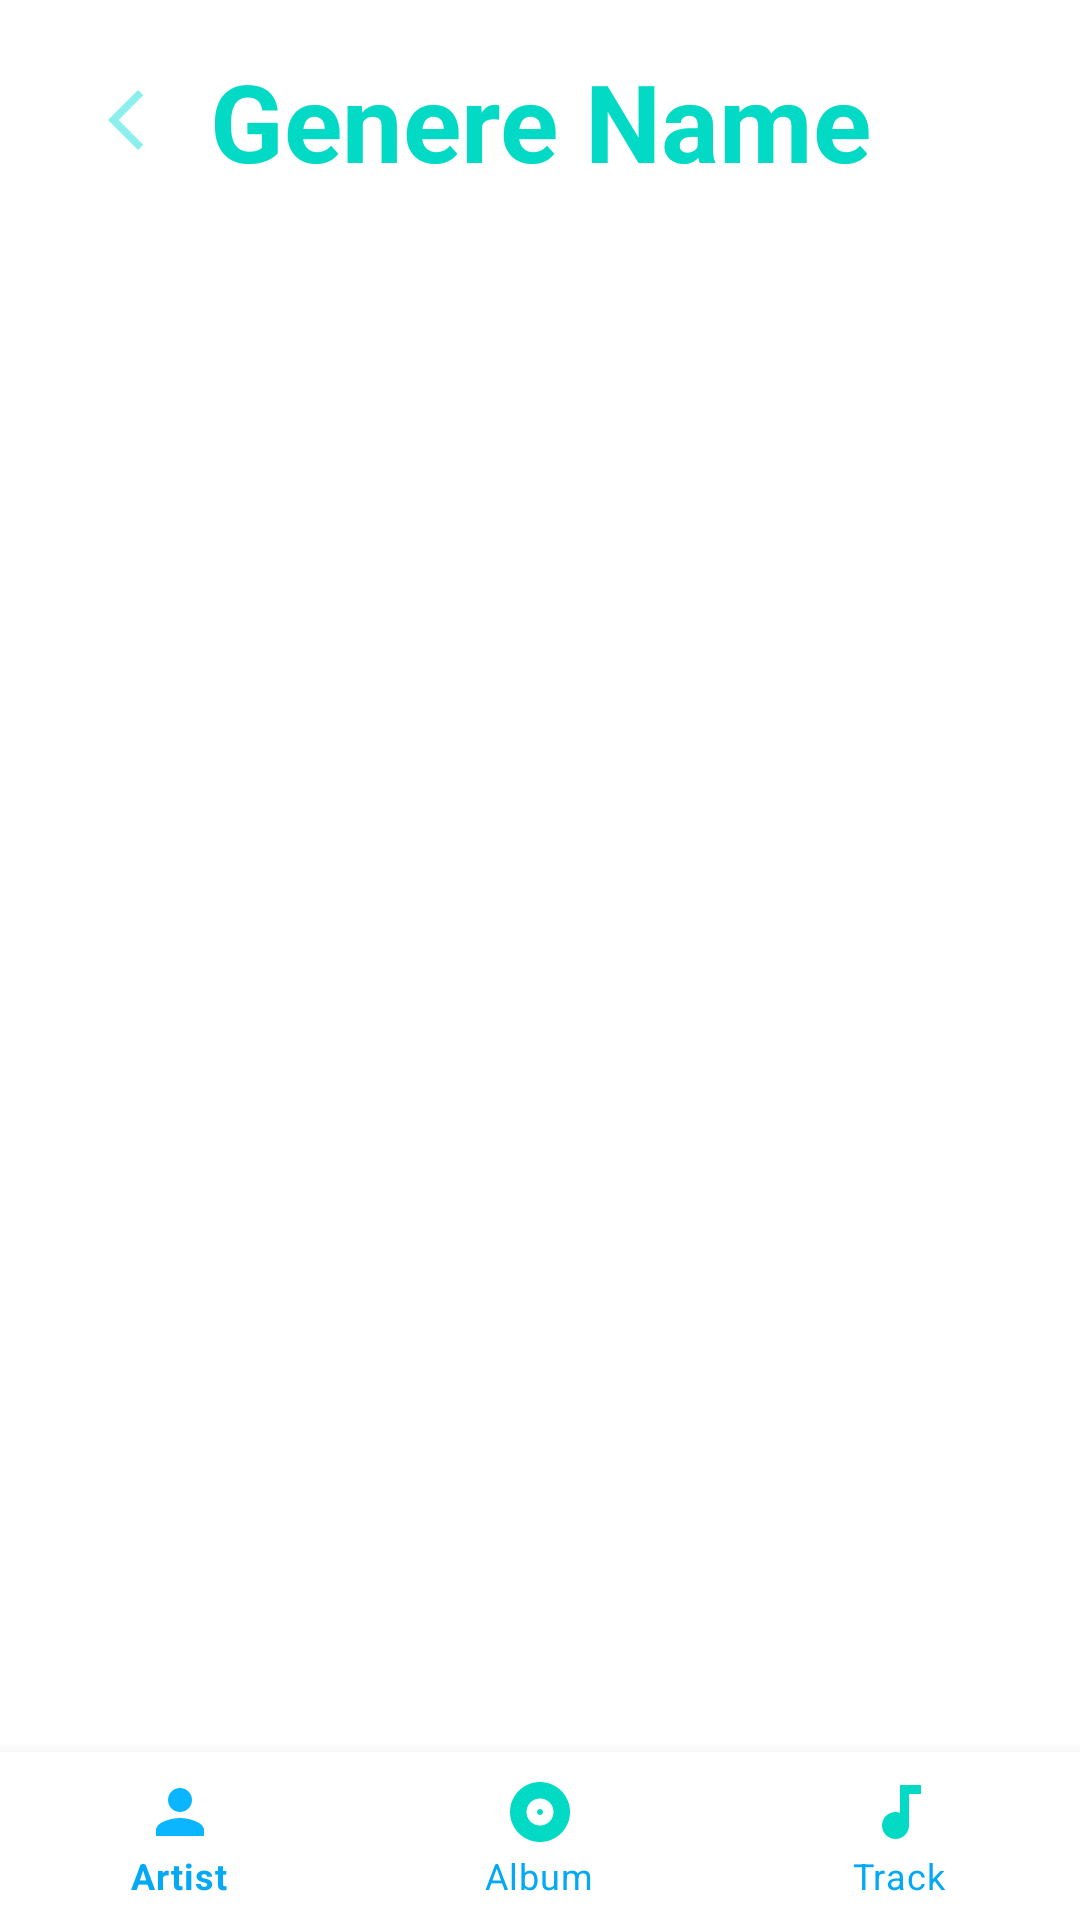

Named icons in this screenshot (1080w x 1920h) and their centers, [x,y]:
arrow back: [125,120]
